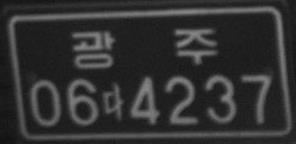0: (28, 77, 63, 129)
2: (163, 73, 200, 127)
3: (202, 72, 238, 125)
4: (127, 74, 162, 127)
6: (64, 76, 101, 127)
7: (239, 71, 273, 126)
광주_D: (69, 26, 219, 69)
다: (101, 81, 125, 123)
